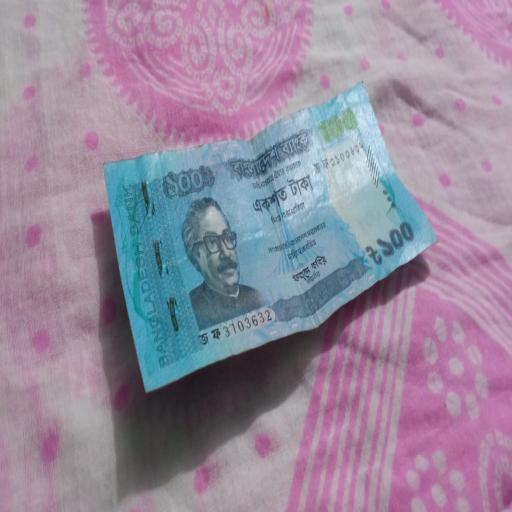100taka: (102, 77, 437, 394)
